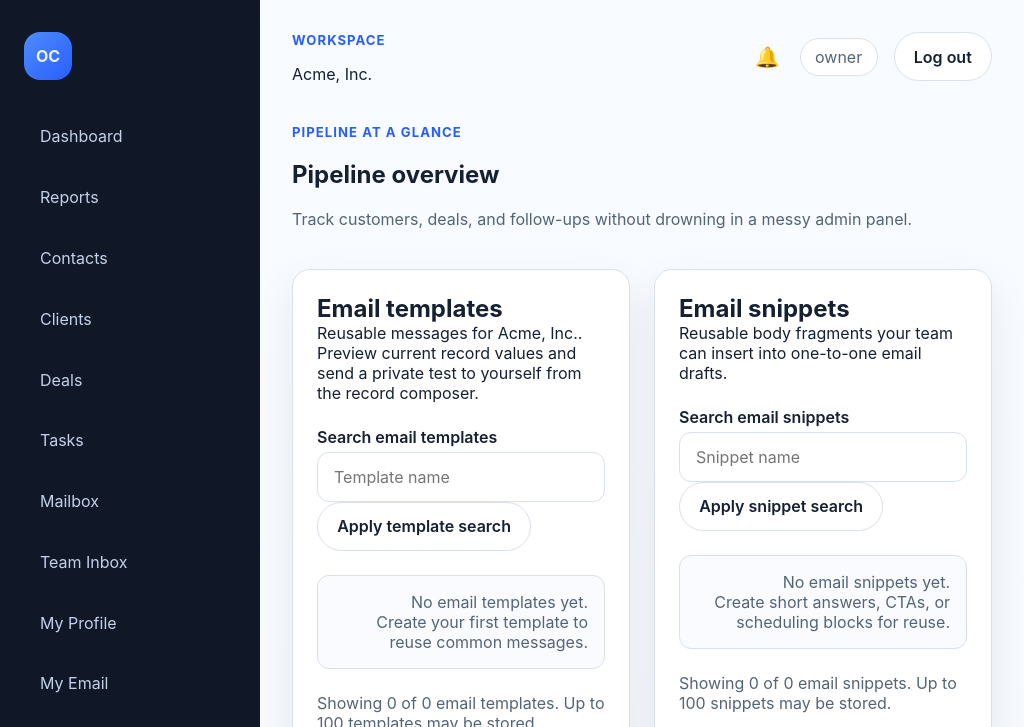
Scenario: settings email templates route › discards an obsolete template search response
Expected: the text "No email templates yet." is shown, [411, 592, 588, 612]
Type "First" into the field labelled "Search email templates".
click(461, 477); type("First")  # box [317, 452, 605, 502]
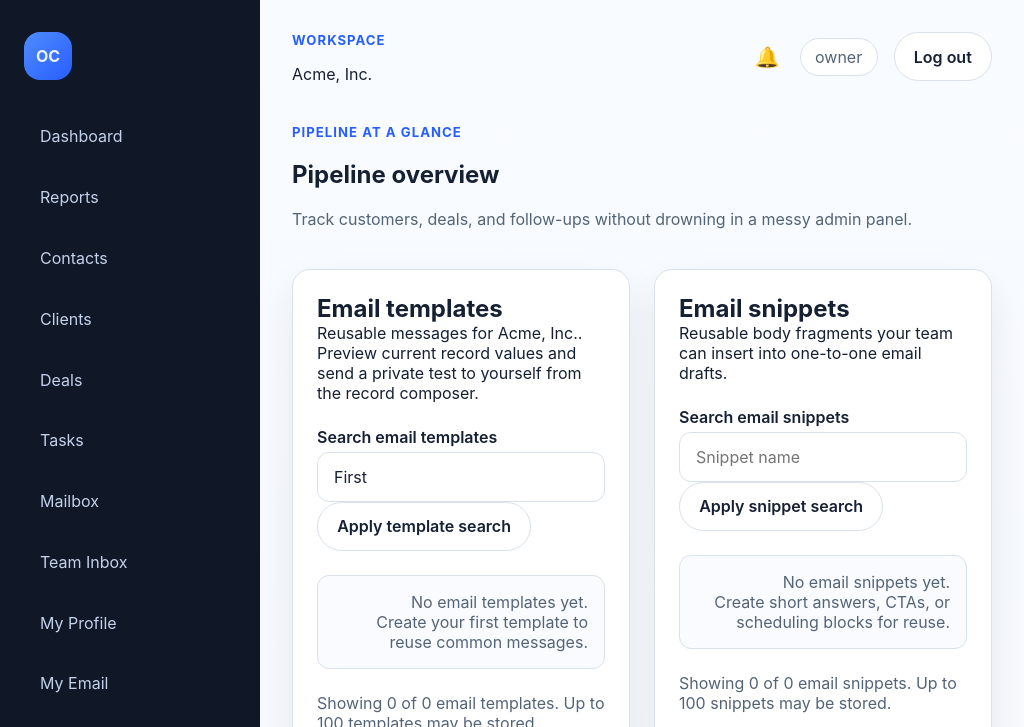
Submit the form labelled "Search email templates", box [317, 427, 605, 551]
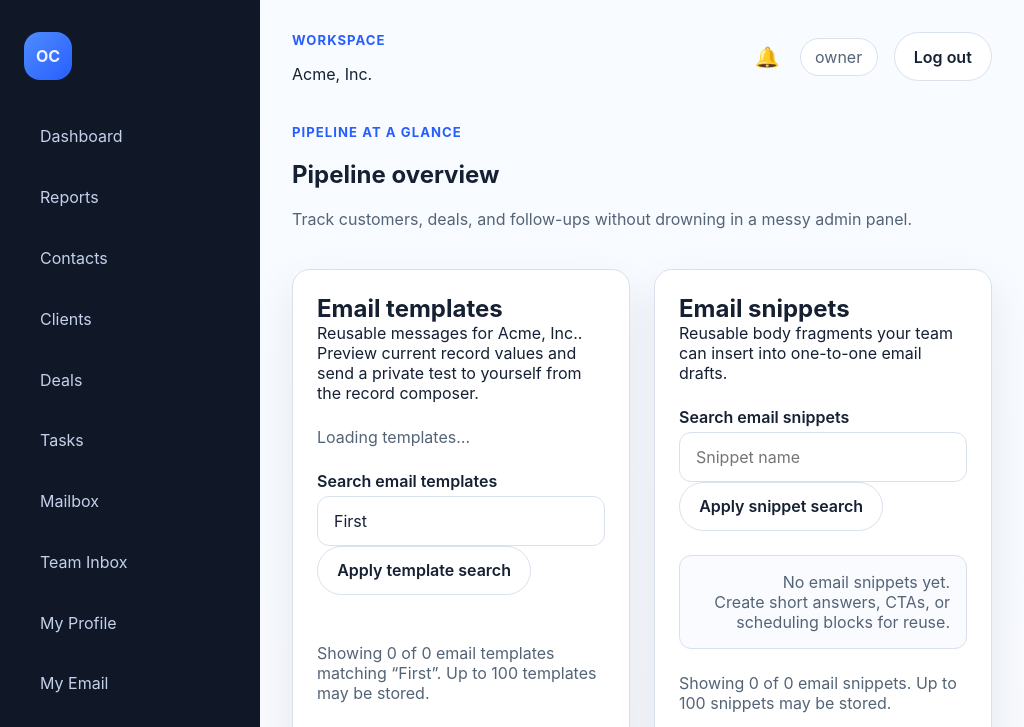
Replace the text in the field labelled "Search email templates" with "Second" at (461, 521), box [317, 496, 605, 546]
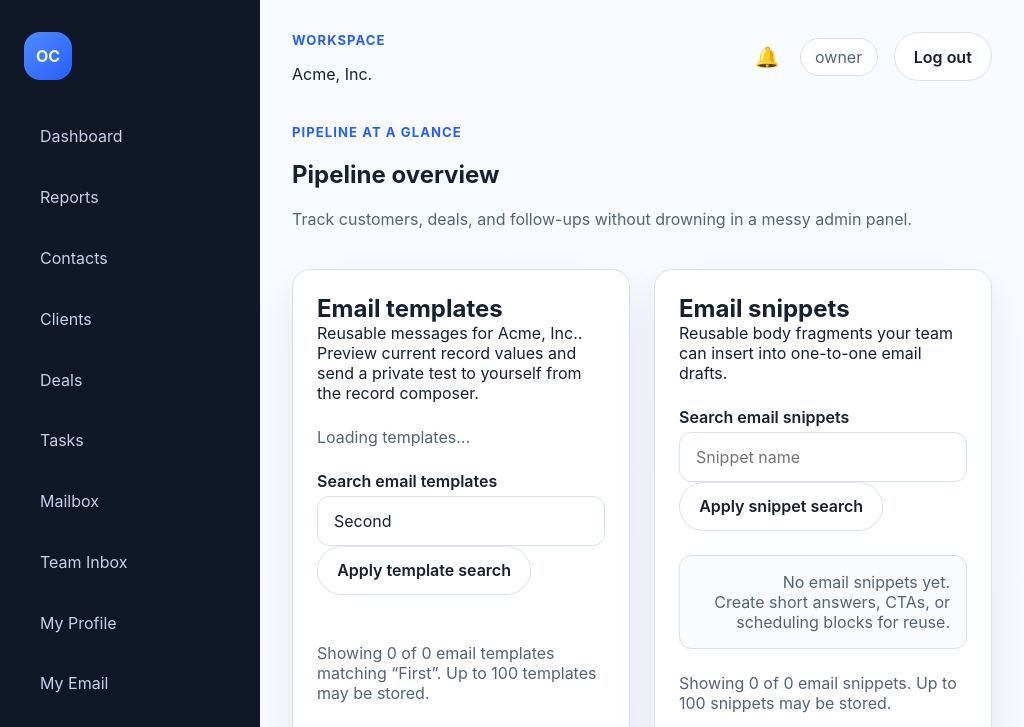
Submit the form labelled "Search email templates", box [317, 471, 605, 595]
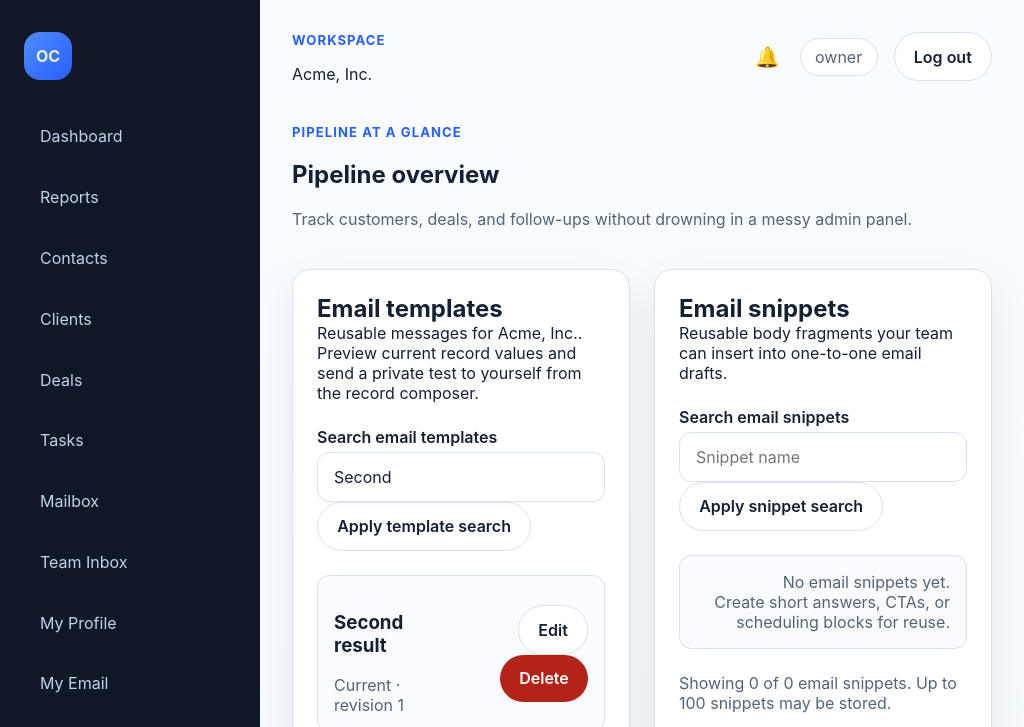
Expected: the heading "Second result" is shown, [334, 610, 403, 656]
